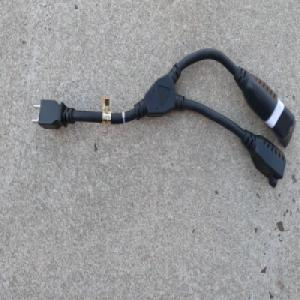Wire: (29, 45, 296, 188)
